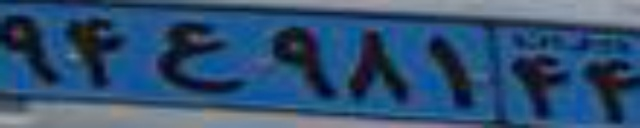1: (427, 34, 476, 108)
4: (64, 16, 128, 89), (504, 52, 570, 120), (581, 58, 639, 123)
8: (344, 29, 411, 104)
9: (267, 26, 335, 99), (1, 14, 59, 86)
ain: (154, 21, 244, 92)
